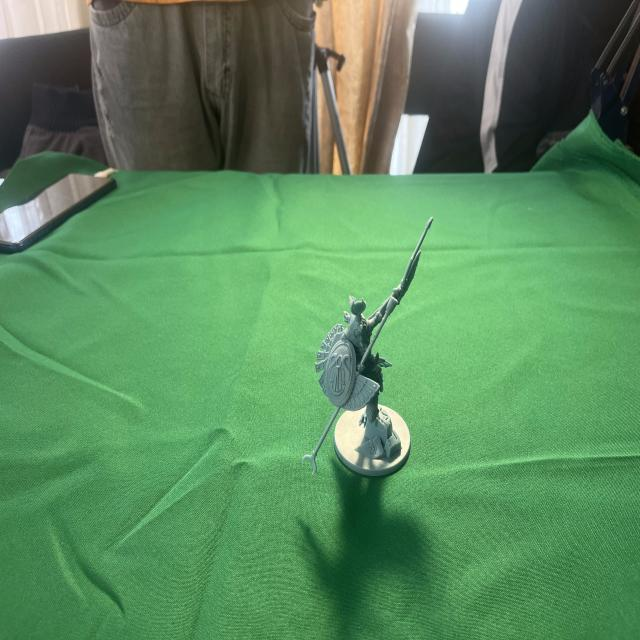isis: (290, 200, 450, 505)
